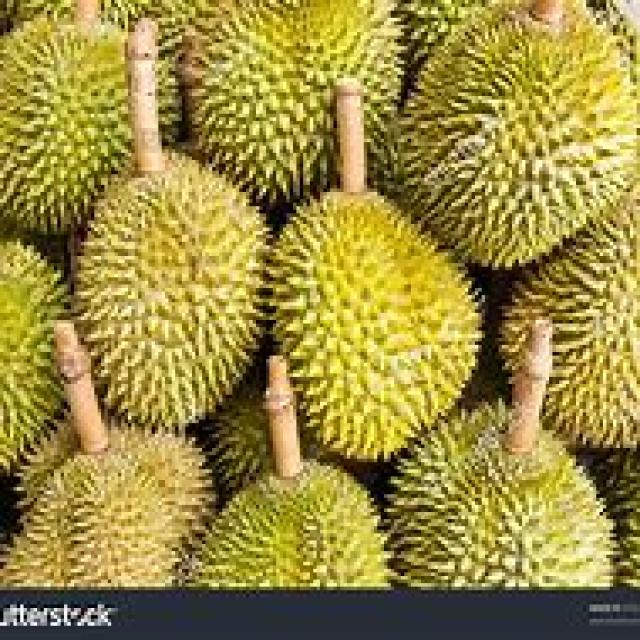immature: (380, 0, 640, 274), (268, 188, 482, 458), (71, 145, 268, 430)
